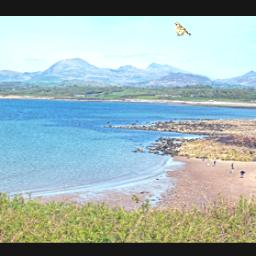Sparrow: (175, 22, 192, 36)
